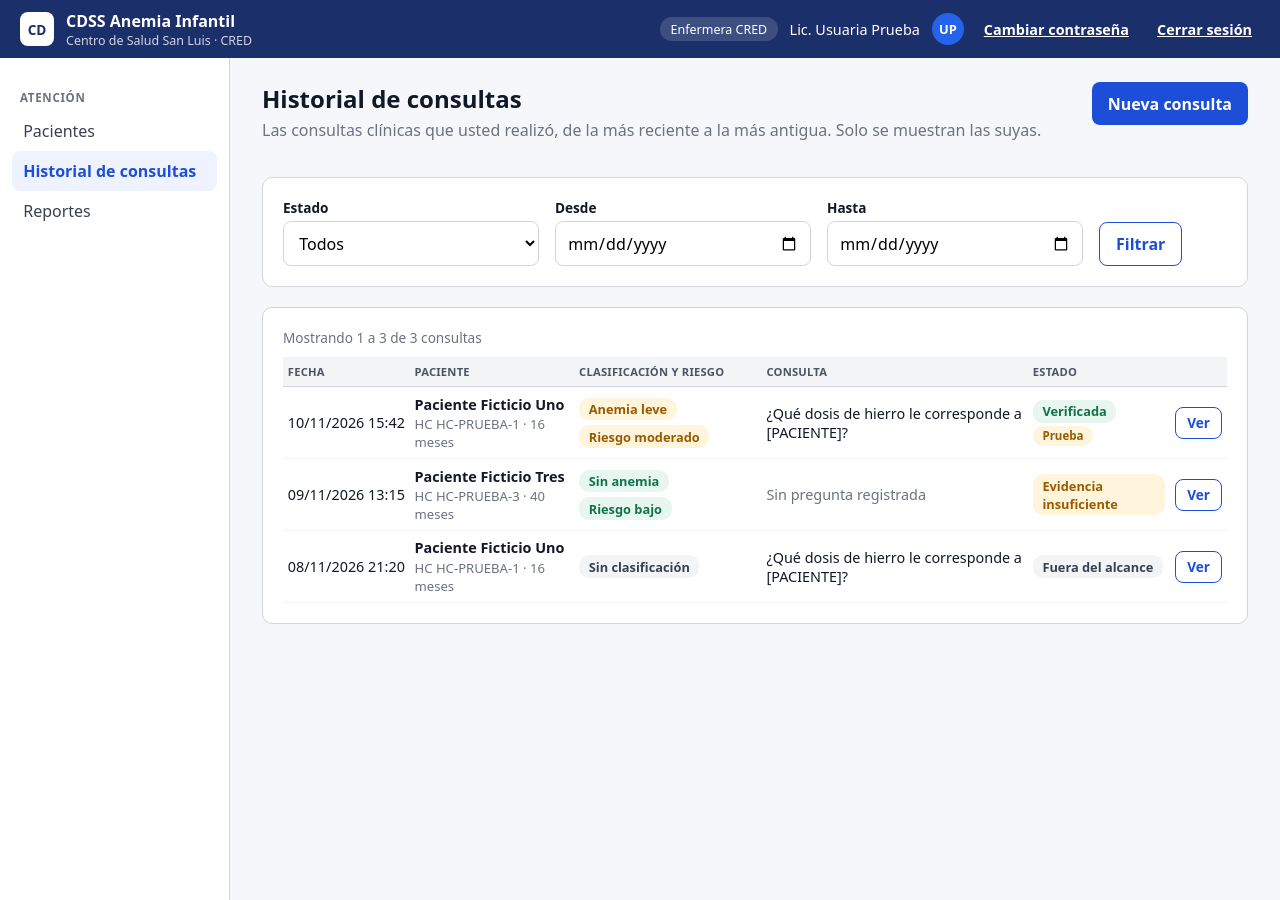
Test: Historial de consultas · filtros y paginación › aplica estado y fechas, vuelve a la primera página y los limpia
The image size is (1280, 900).
Check: the element named "Consultas realizadas" is shown, box left=283, top=357, right=1227, bottom=603
Select "Evidencia insuficiente" in the dropdown labelled "Estado": (411, 244) left=283, top=221, right=539, bottom=266
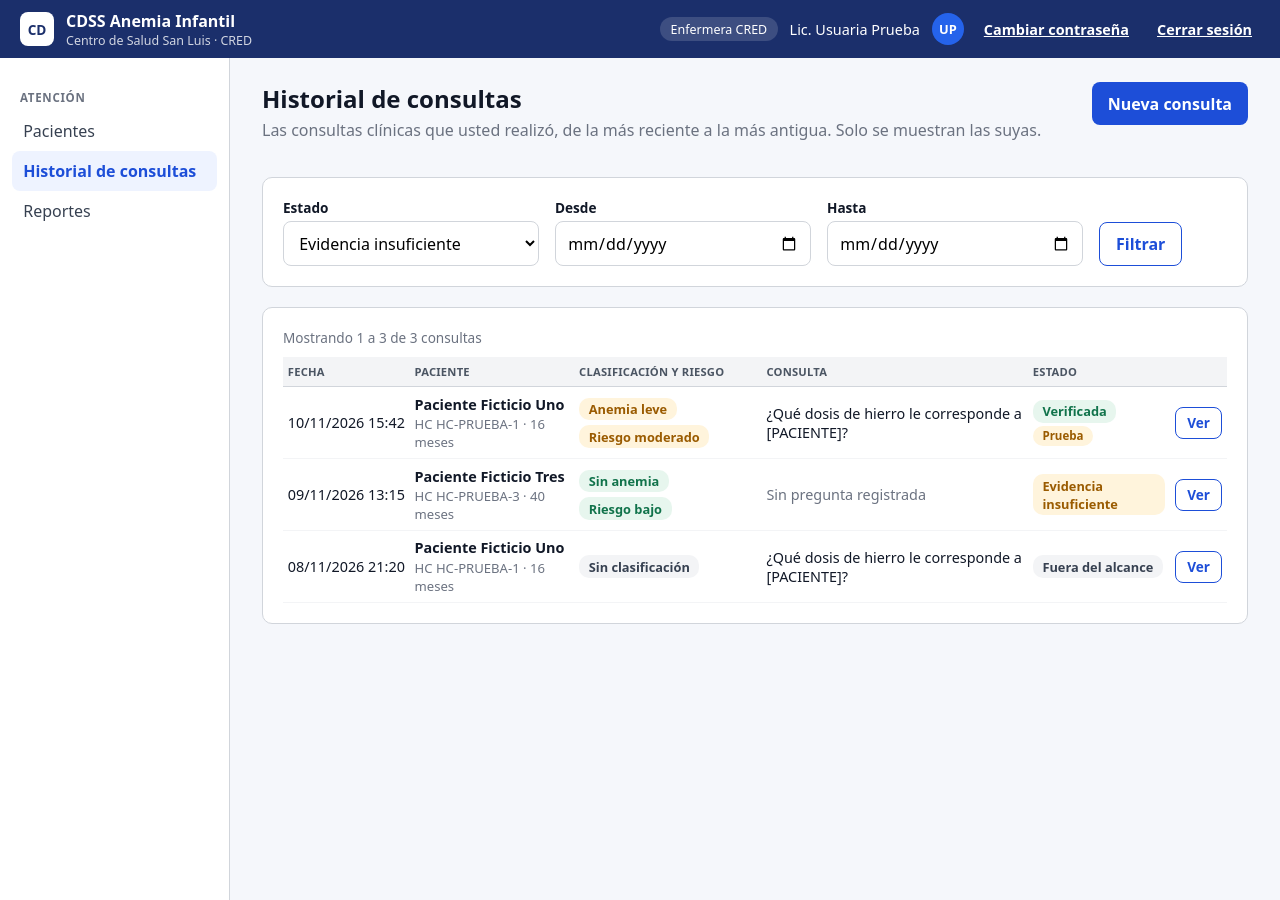
In the date field labelled "Desde": (683, 244) left=555, top=221, right=811, bottom=266, type "2026-11-01"
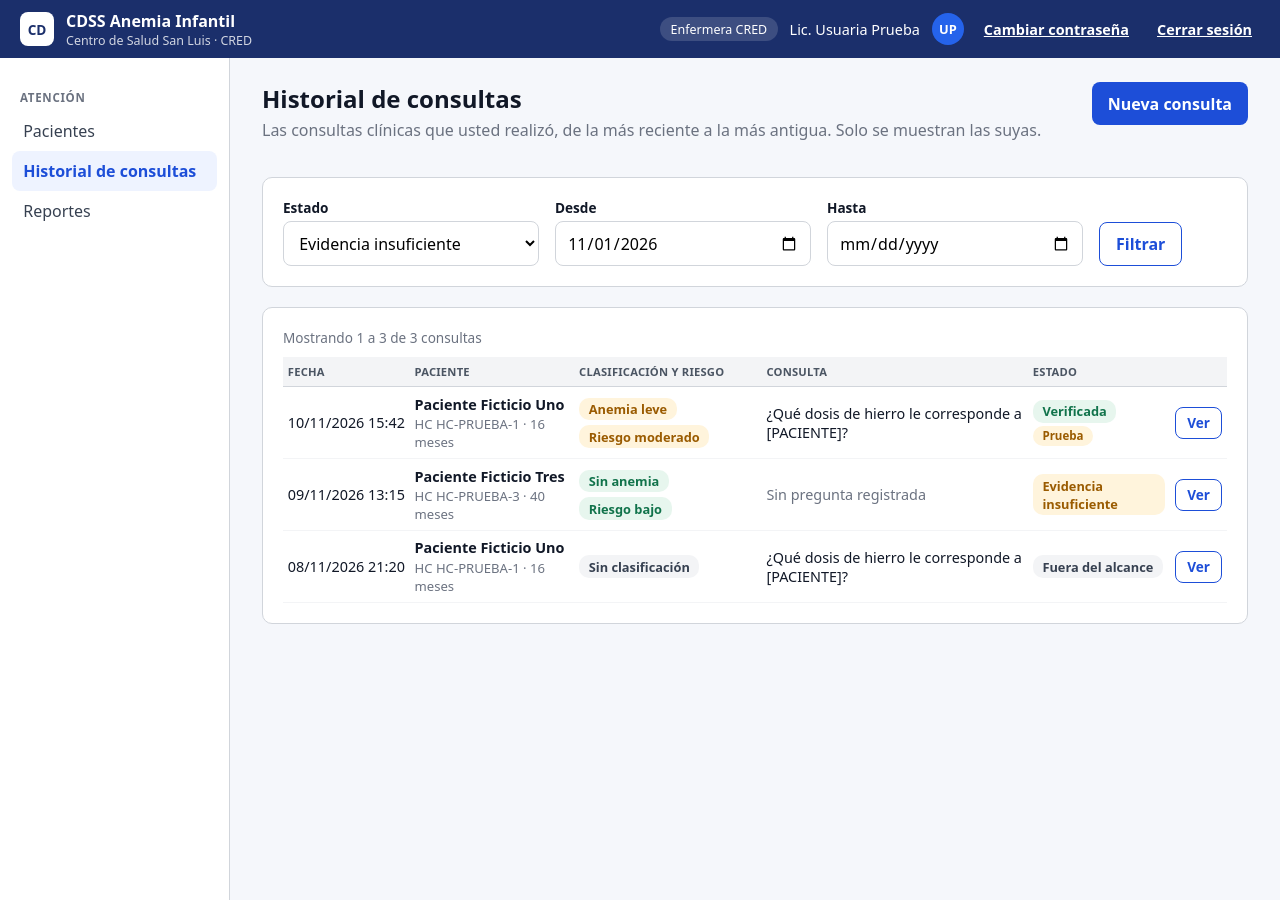
In the date field labelled "Hasta": (955, 244) left=827, top=221, right=1083, bottom=266, type "2026-11-15"
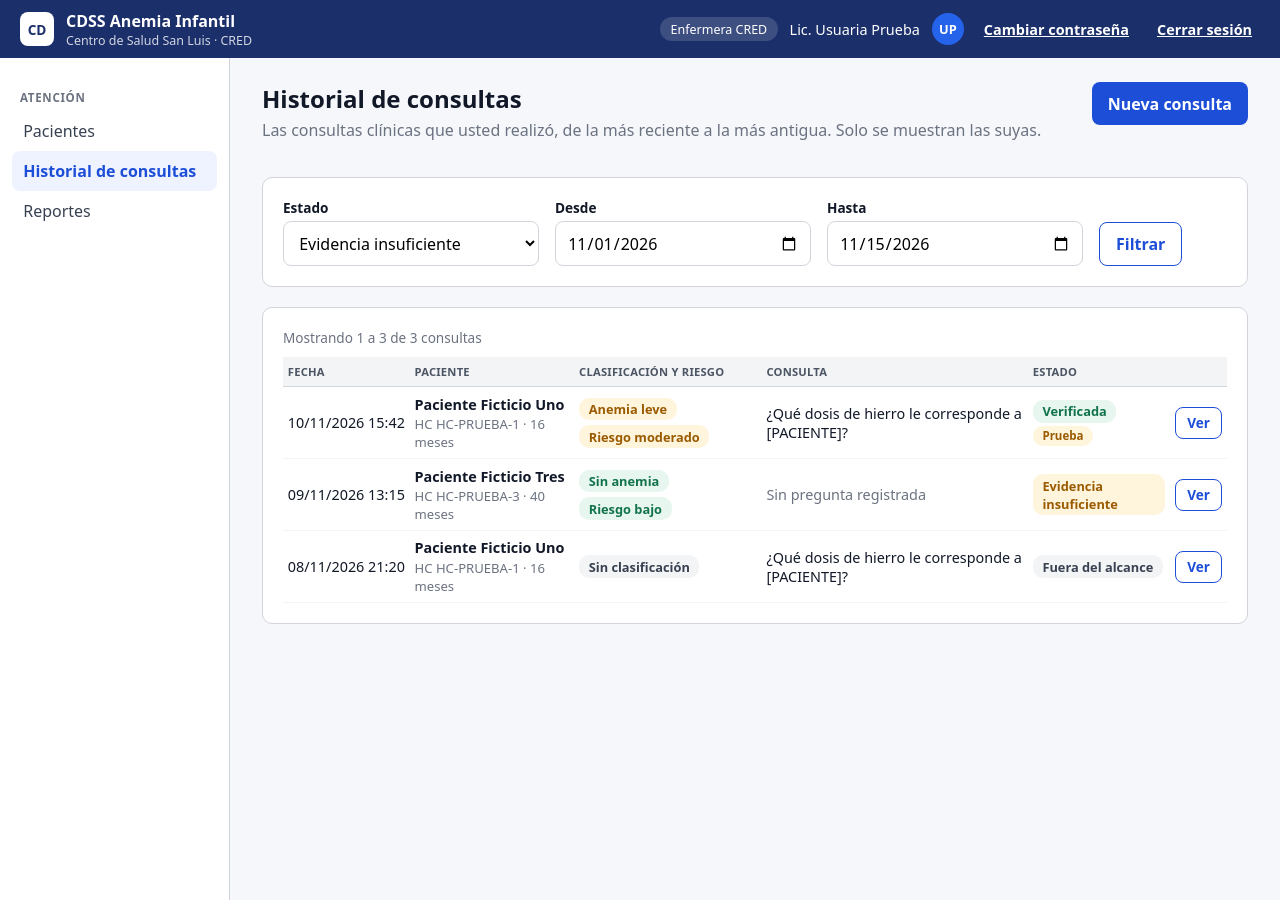
Click the button "Filtrar": click(1141, 244) left=1099, top=222, right=1182, bottom=266
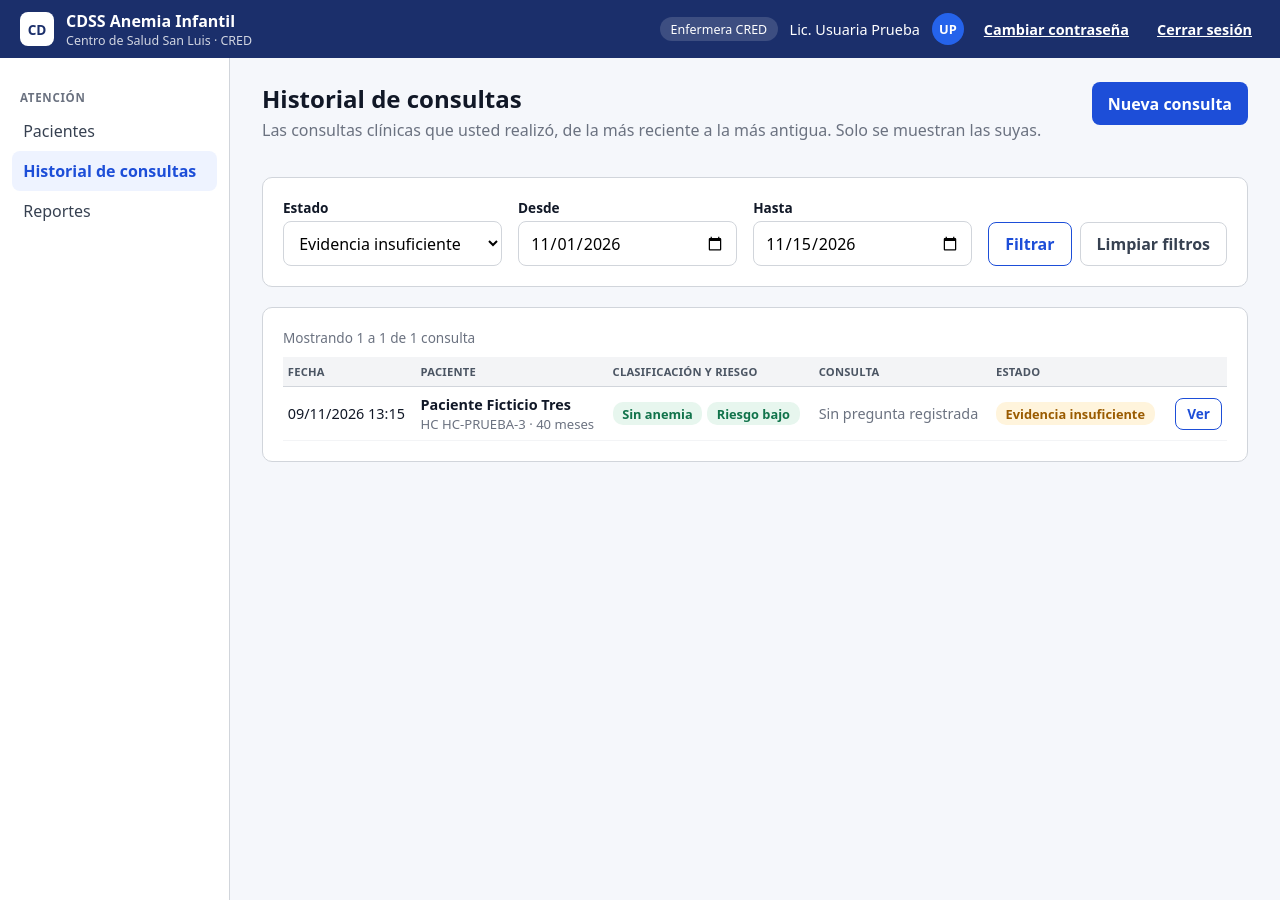
Check: the number of rows is 2, box left=283, top=357, right=1227, bottom=387; left=283, top=387, right=1227, bottom=441
Click the button "Limpiar filtros": click(1153, 244) left=1080, top=222, right=1227, bottom=266
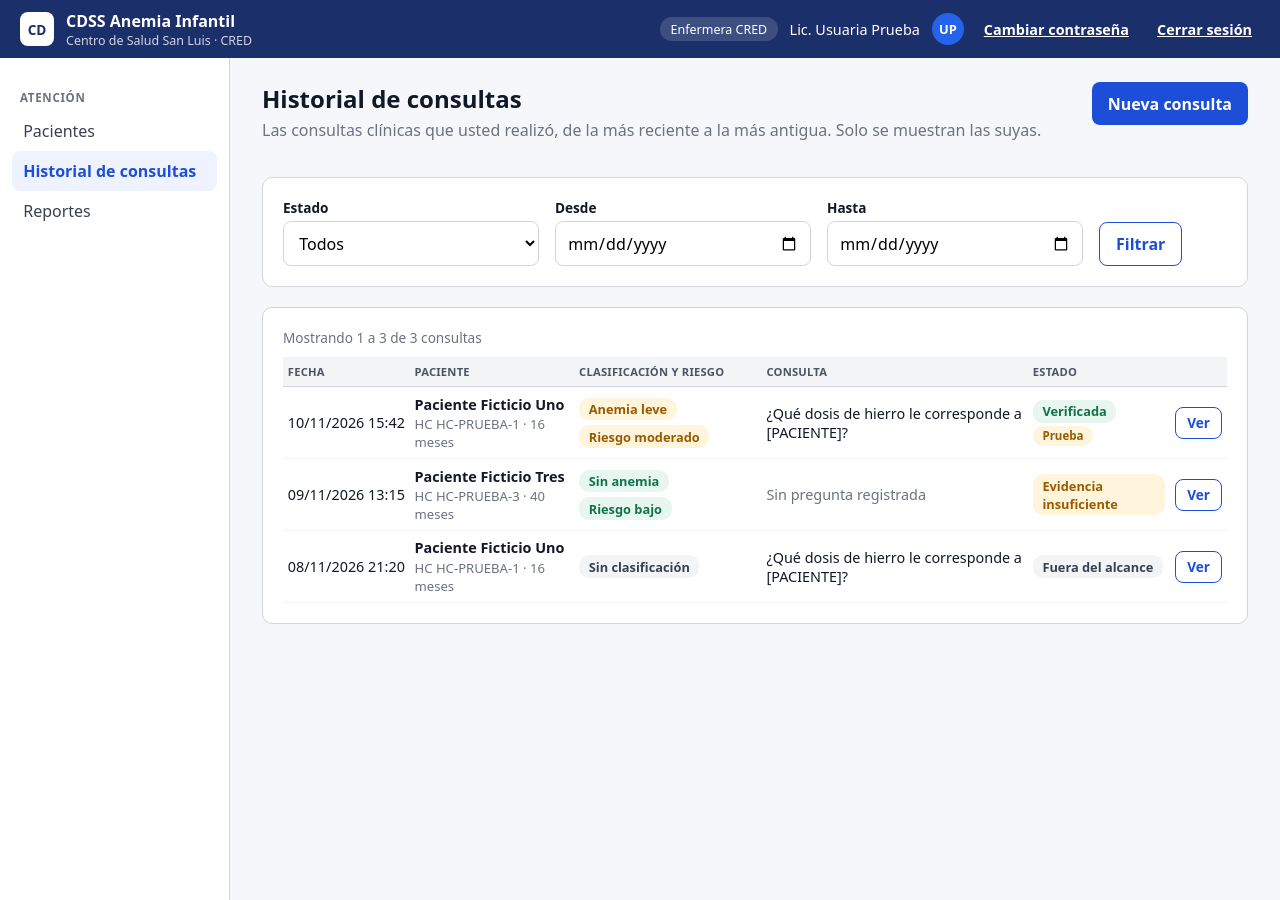
Check: the date field labelled "Desde" is empty, box left=555, top=221, right=811, bottom=266
